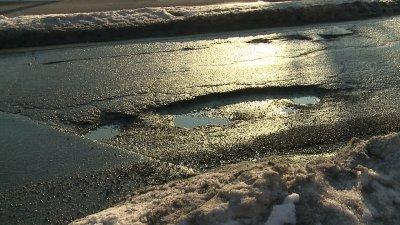Pothole: (77, 83, 342, 137)
